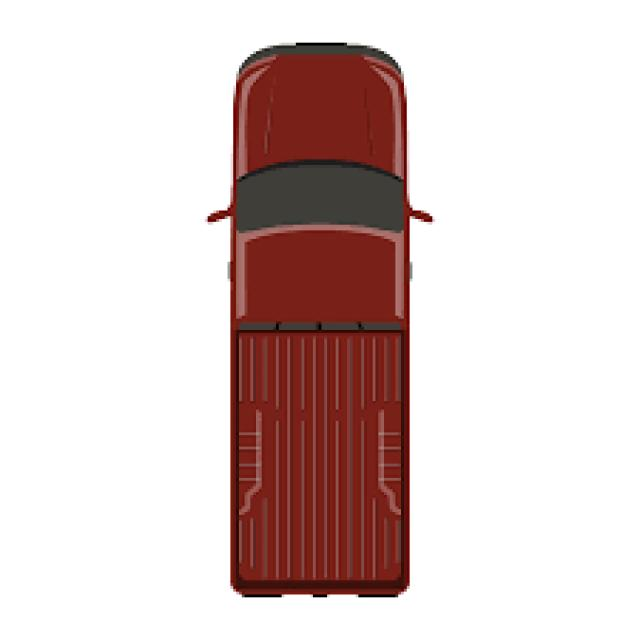truck: (233, 41, 410, 597)
